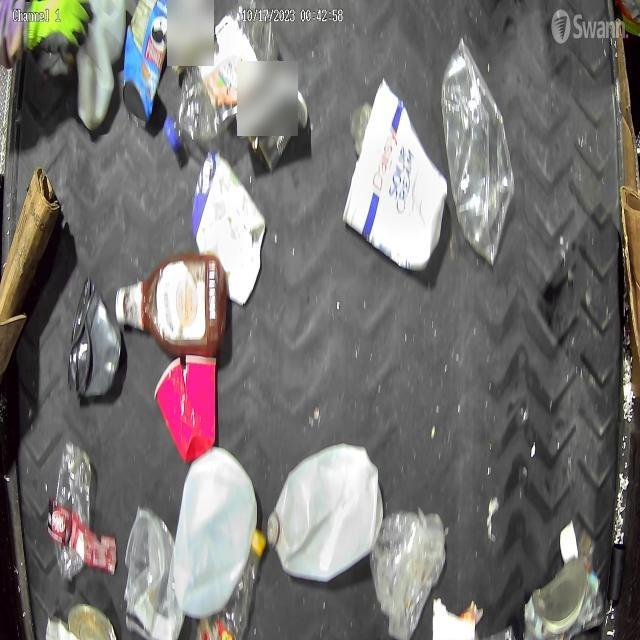milk_jug: (266, 443, 382, 584), (173, 448, 260, 620), (75, 0, 126, 130)
non_white_jug: (115, 254, 227, 358)
plastic_bottle: (164, 0, 278, 149), (49, 444, 94, 582)
